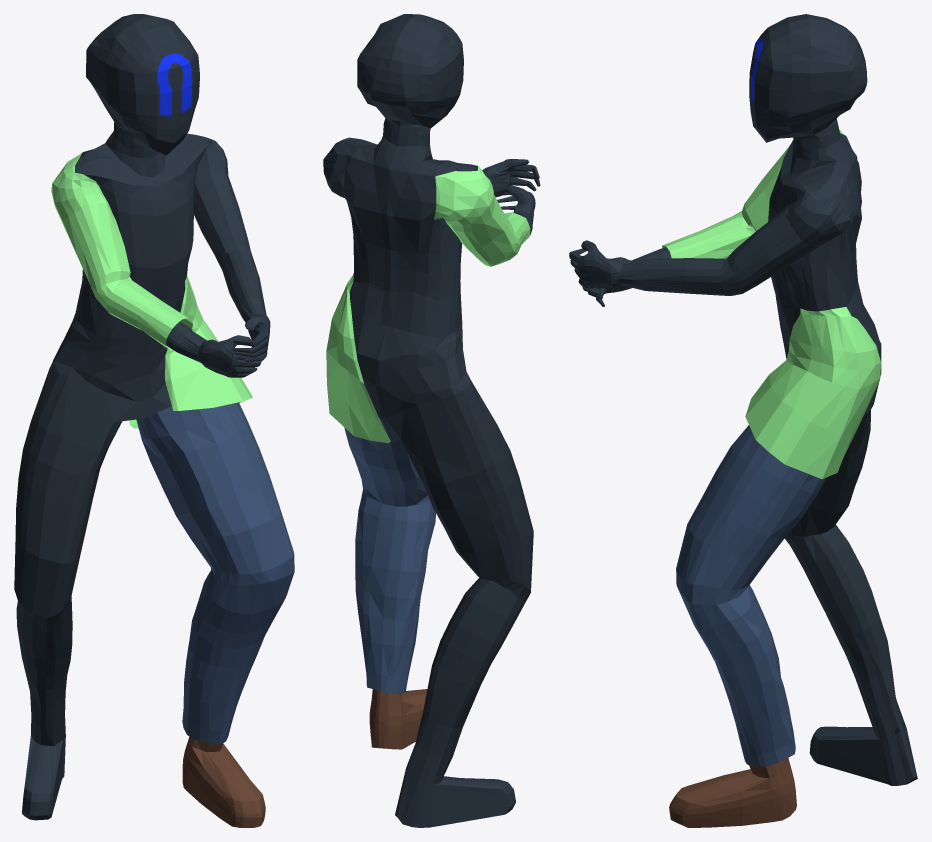
File: Mar_WF_000021.obj
3 renders of one model, left to right at view 1: azimuth 30°, elevation 25°; view 2: azimuth 150°, elevation 25°; view 3: azimuth 270°, elevation 25°, orthographic. The views are drawn at different scales.
Parts seen in each view (by area): view 1: Cube.000_Cube.001; view 2: Cube.000_Cube.001; view 3: Cube.000_Cube.001.
Part boxes in pixels (x1=…): Cube.000_Cube.001: x1=14, y1=14, x2=294, y2=827; Cube.000_Cube.001: x1=323, y1=14, x2=540, y2=827; Cube.000_Cube.001: x1=569, y1=14, x2=917, y2=827.
Size of the model in its own units: 1.11 by 3.76 by 1.5.
